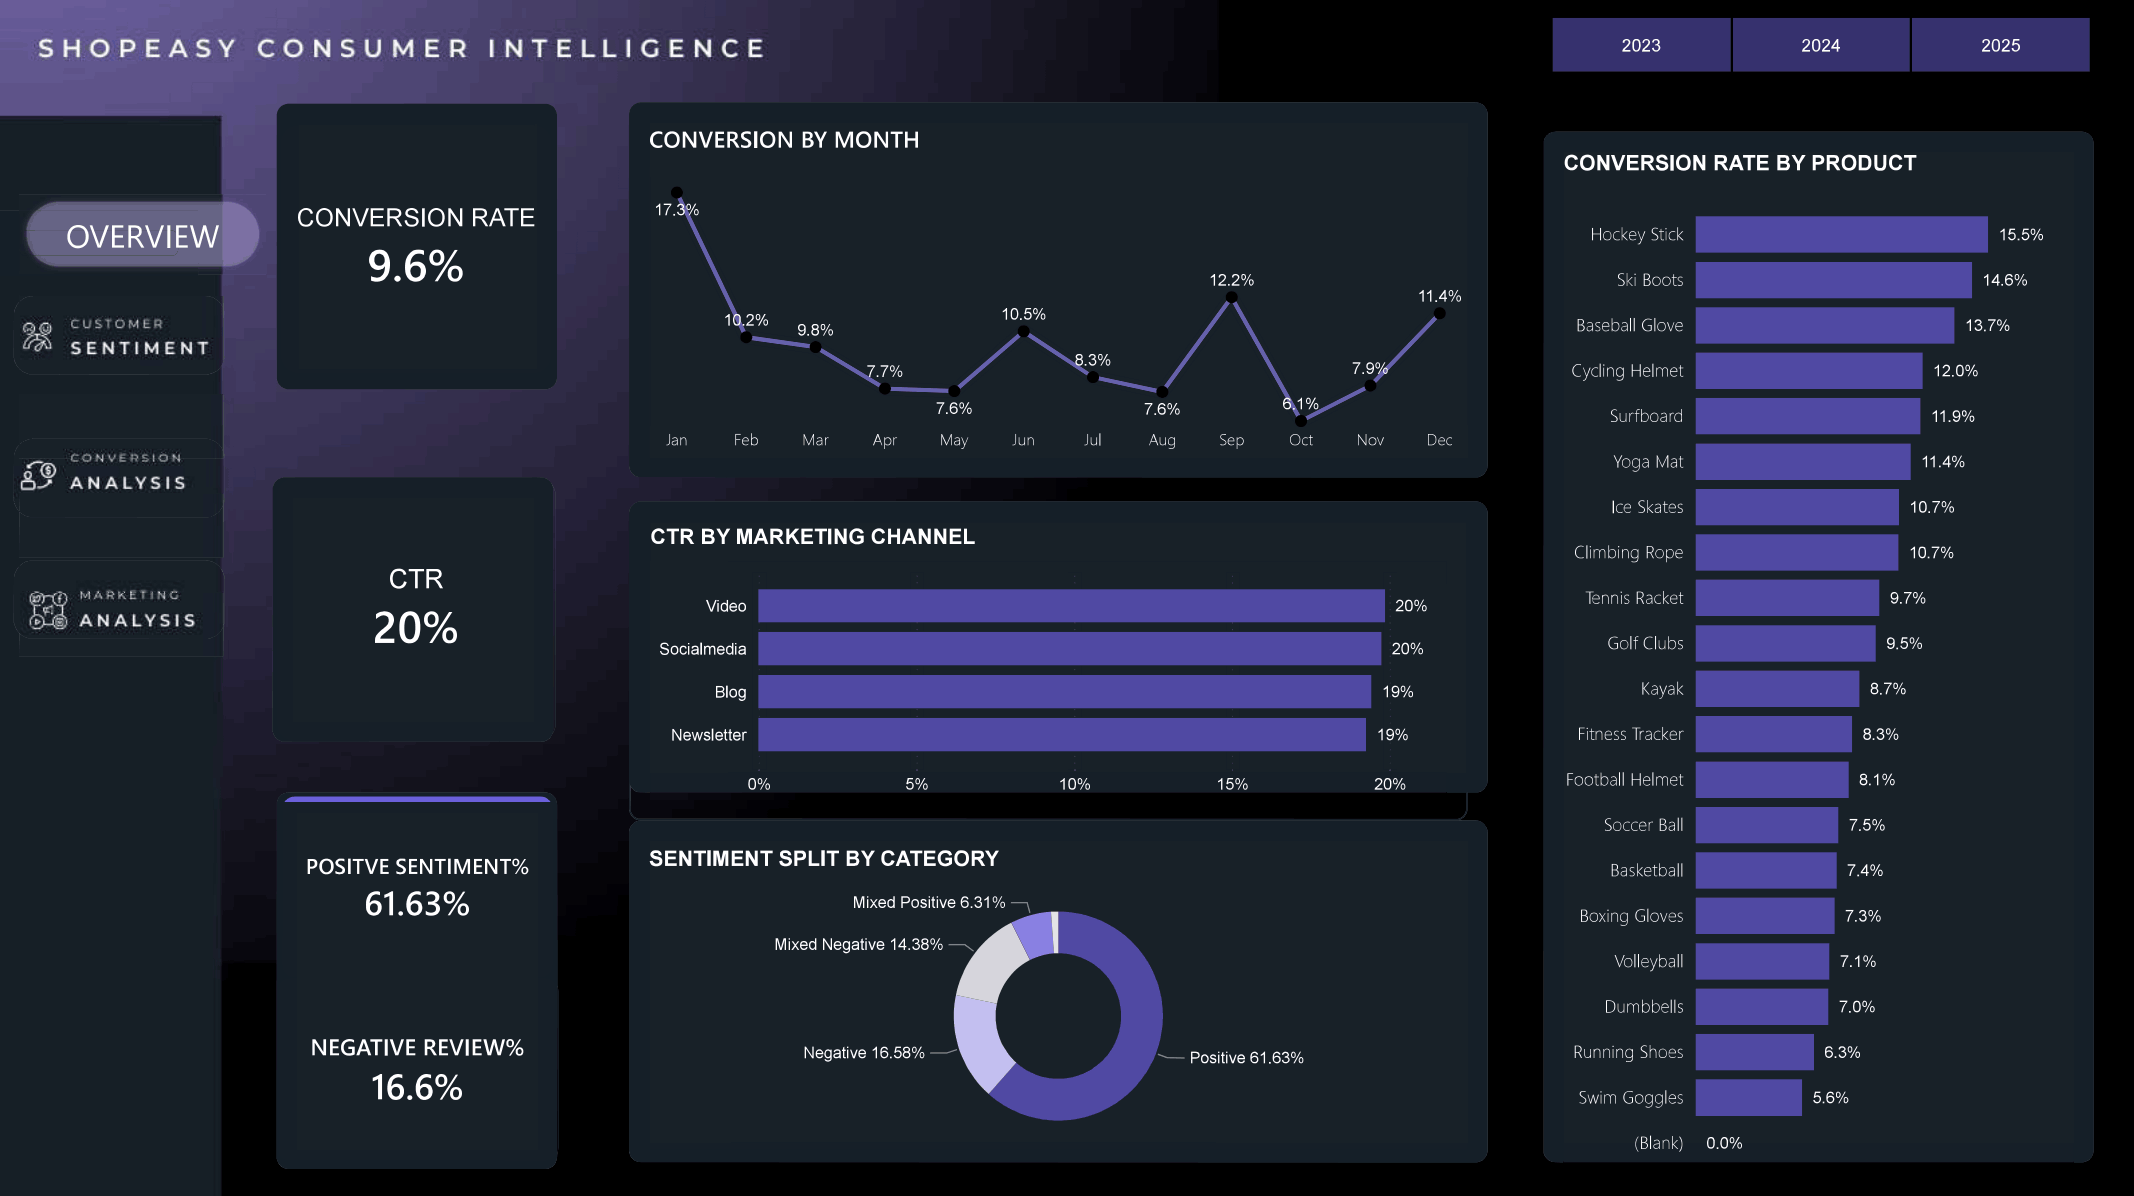

What the dashboard file says about the page in this screenshot:
{"tool":"powerbi","page":{"name":"overview","canvas":[1600,900],"ordinal":0},"visuals":[{"type":"shape","box":[0,159,149.2,49.2],"z":0},{"type":"shape","box":[208.2,78.7,209.8,214.8],"z":1000},{"type":"shape","box":[208.2,595.1,209.8,282],"z":2000},{"type":"shape","box":[1157.4,100,411.5,772.1],"z":3000},{"type":"shape","box":[472.4,78.2,642.6,280.7],"z":4000},{"type":"lineChart","title":"CONVERSION BY MONTH","fields":{"Category":["Calendar.MonthNameShort"],"Y":["calculations.Conversion Rate"]},"box":[472.4,78.2,642.6,280.7],"z":5000},{"type":"clusteredBarChart","title":"CONVERSION RATE BY PRODUCT","fields":{"Category":["products.ProductName"],"Y":["calculations.Conversion Rate"]},"box":[1157.4,100,411.5,800],"z":6000},{"type":"cardVisual","fields":{"Data":["negative_reviews_issues.neagtive review %"]},"box":[208.2,734.4,211.5,137.7],"z":7000},{"type":"shape","box":[472.1,616.4,642.6,255.7],"z":8000},{"type":"donutChart","title":"SENTIMENT SPLIT BY CATEGORY","fields":{"Category":["customer_reviews_sentiment.SentimentCategory"],"Y":["CountNonNull(customer_reviews_sentiment.ReviewID)"]},"box":[472.1,621.3,642.6,255.7],"z":9000},{"type":"cardVisual","fields":{"Data":["calculations.Conversion Rate"]},"box":[211.5,95.1,203.3,186.9],"z":10000},{"type":"cardVisual","fields":{"Data":["calculations.% Positive Sentiment"]},"box":[211.7,598.2,204,136.5],"z":11000},{"type":"shape","box":[204.9,359,209.8,198.4],"z":12000},{"type":"shape","box":[472.1,377,642.6,218],"z":13000},{"type":"clusteredBarChart","title":"CTR BY MARKETING CHANNEL","fields":{"Category":["engagement_data_cleaned.ContentType"],"Y":["calculations.CTR"]},"box":[472.1,378.7,627.9,237.7],"z":14000},{"type":"cardVisual","fields":{"Data":["calculations.CTR"]},"box":[208.2,359,209.8,198.4],"z":15000},{"type":"slicer","fields":{"Values":["Calendar.Date.Variation.Date Hierarchy.Year"]},"box":[1142.6,13.1,442.6,44.3],"z":16000},{"type":"shape","box":[0,131.9,214.7,90.5],"z":17000},{"type":"actionButton","box":[11.5,223,157.4,59],"z":18000},{"type":"actionButton","box":[11.5,329.5,157.4,59],"z":19000},{"type":"actionButton","box":[11.5,421.3,157.4,59],"z":20000},{"type":"pageNavigator","box":[0,208.2,183.6,303.3],"z":21000}]}

Visuals, with their boxes in screenshot pixels (x1, y1, x2, y2), scaled from the page's 1600x900 canvas onto the 2134x1196 screenshot:
shape: 0:211:199:277
shape: 278:105:558:390
shape: 278:791:558:1166
shape: 1544:133:2093:1159
shape: 630:104:1487:477
"CONVERSION BY MONTH" lineChart: 630:104:1487:477
"CONVERSION RATE BY PRODUCT" clusteredBarChart: 1544:133:2093:1195
cardVisual - negative_reviews_issues.neagtive review %: 278:976:560:1159
shape: 630:819:1487:1159
"SENTIMENT SPLIT BY CATEGORY" donutChart: 630:826:1487:1165
cardVisual - calculations.Conversion Rate: 282:126:553:375
cardVisual - calculations.% Positive Sentiment: 282:795:554:976
shape: 273:477:553:741
shape: 630:501:1487:791
"CTR BY MARKETING CHANNEL" clusteredBarChart: 630:503:1467:819
cardVisual - calculations.CTR: 278:477:558:741
slicer - Calendar.Date.Variation.Date Hierarchy.Year: 1524:17:2114:76
shape: 0:175:286:296
actionButton: 15:296:225:375
actionButton: 15:438:225:516
actionButton: 15:560:225:638
pageNavigator: 0:277:245:680
